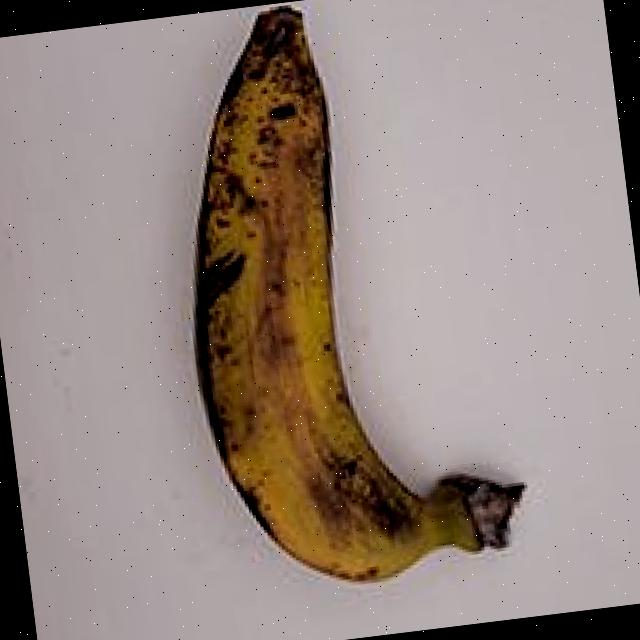Overripe: (128, 0, 565, 609)
